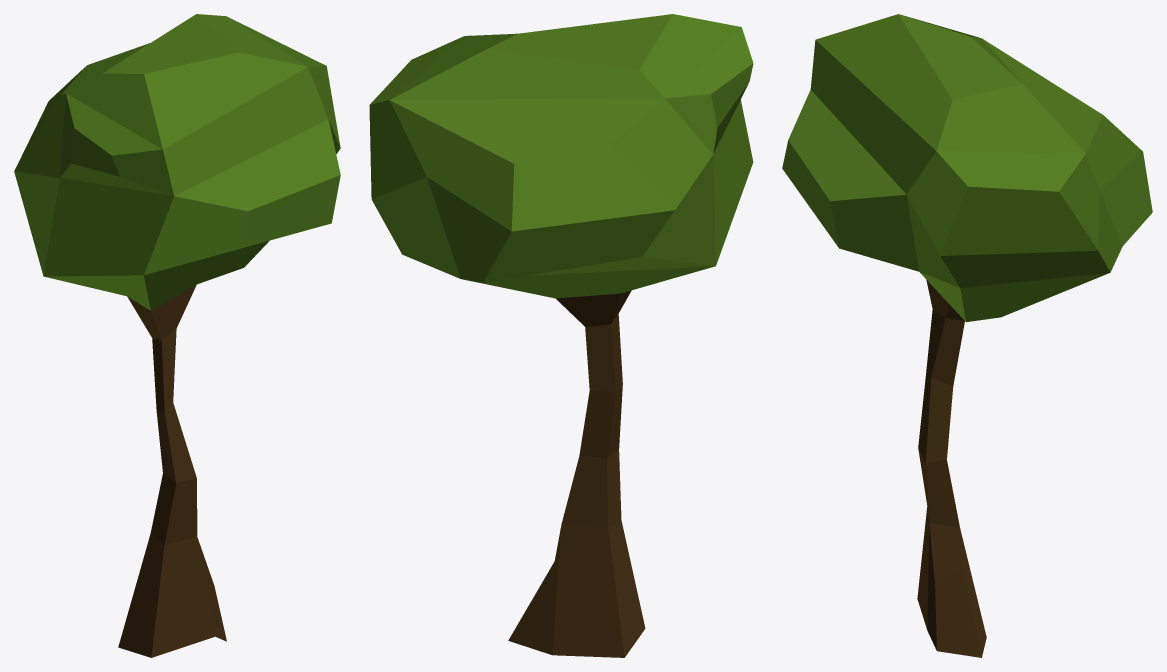
The model's file is Tree2.glb.
3 views of the same model, side by side, from view 1: azimuth 30°, elevation 25°; view 2: azimuth 150°, elevation 25°; view 3: azimuth 270°, elevation 25° (orthographic). The views are drawn at different scales.
Parts seen in each view (by area): view 1: Tree2; view 2: Tree2; view 3: Tree2.
Part boxes in pixels (left/top/right/bottom): Tree2: left=14, top=14, right=340, bottom=657; Tree2: left=369, top=14, right=753, bottom=657; Tree2: left=782, top=14, right=1152, bottom=657.
Bounding box in the file's own units: 4.16 × 8.35 × 4.76.
